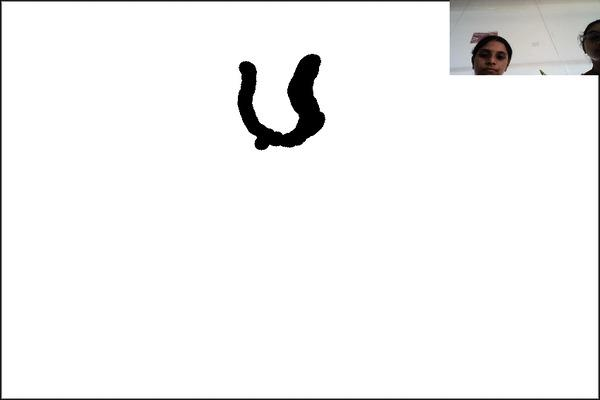U: (224, 47, 342, 164)
